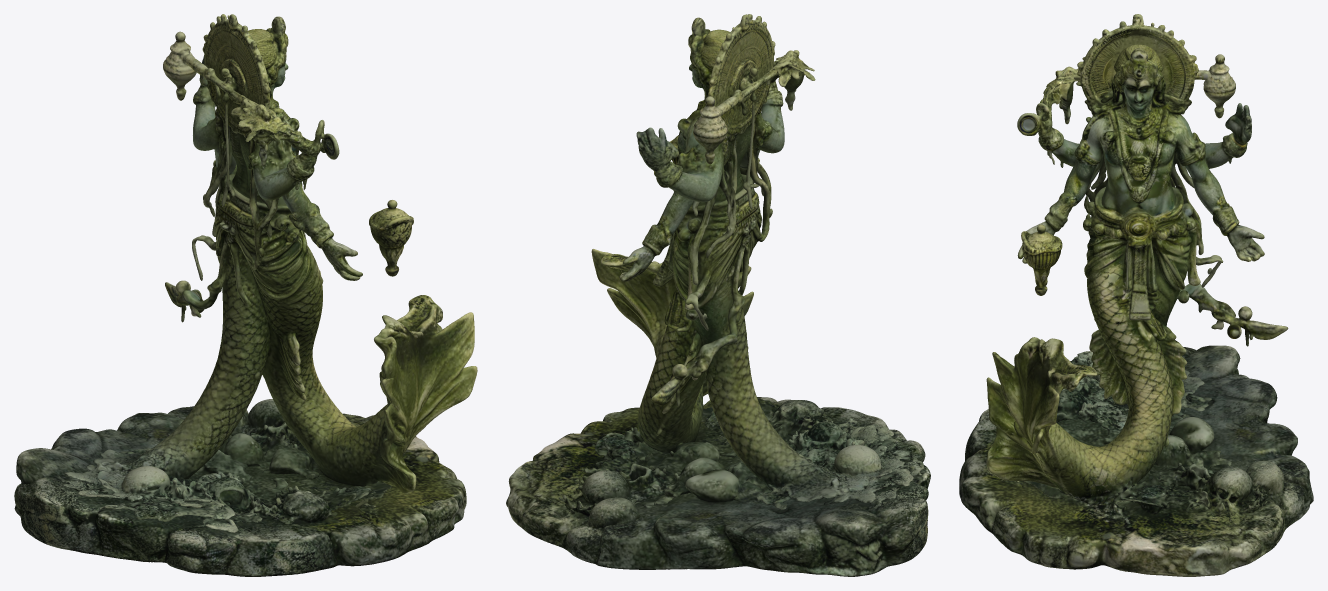
Rendered from tripo_convert_db94271c-2f4f-4b08-8ca9-a44368aed6f1.fbx.
3 views of the same model, side by side, from view 1: azimuth 30°, elevation 25°; view 2: azimuth 150°, elevation 25°; view 3: azimuth 270°, elevation 25° (orthographic). The views are drawn at different scales.
Parts seen in each view (by area): view 1: tripo_node_db94271c; view 2: tripo_node_db94271c; view 3: tripo_node_db94271c.
Part boxes in pixels (x1=…): tripo_node_db94271c: x1=14, y1=14, x2=477, y2=576; tripo_node_db94271c: x1=506, y1=14, x2=930, y2=576; tripo_node_db94271c: x1=959, y1=14, x2=1313, y2=576.
Bounding box in the file's own units: 0.7971 × 1 × 0.6777.
1 material, 1 textured.
